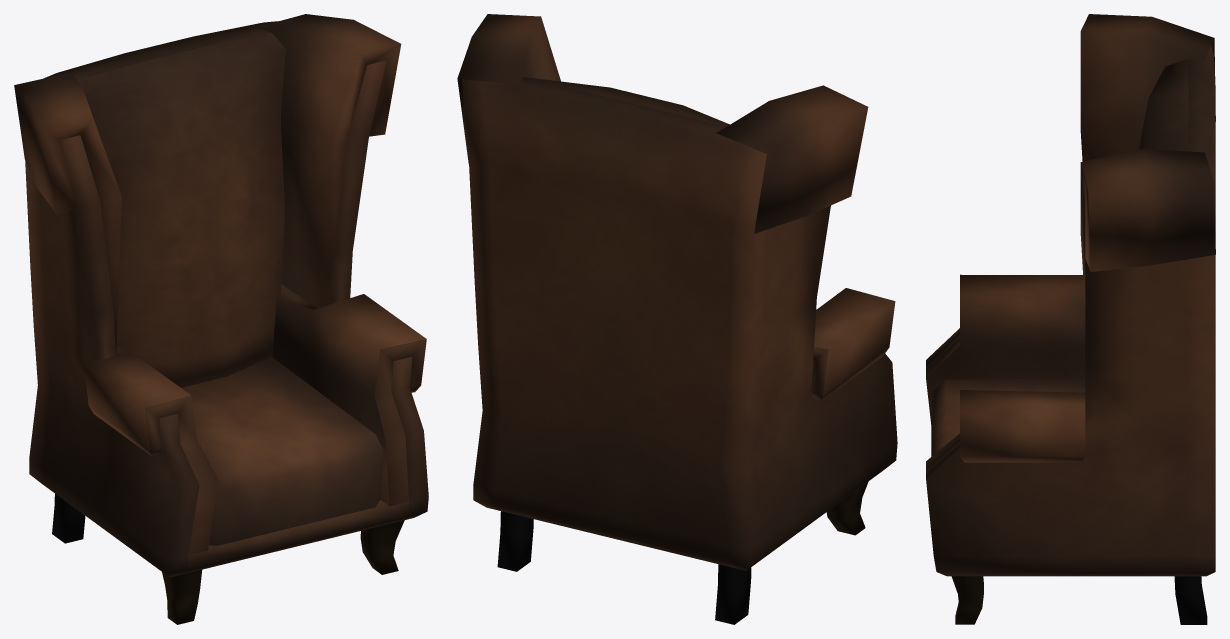
Rendered from chair_comfy.glb.
3 renders of one model, left to right at view 1: azimuth 30°, elevation 25°; view 2: azimuth 150°, elevation 25°; view 3: azimuth 270°, elevation 25°, orthographic. The views are drawn at different scales.
Visible parts, largest first — view 1: Armchair; view 2: Armchair; view 3: Armchair.
Part boxes in pixels (<box>): Armchair: <box>14,14,428,624</box>; Armchair: <box>457,14,897,624</box>; Armchair: <box>926,14,1215,624</box>.
Size of the model in its own units: 1.09 by 1.37 by 0.7543.
1 material, 1 textured.
